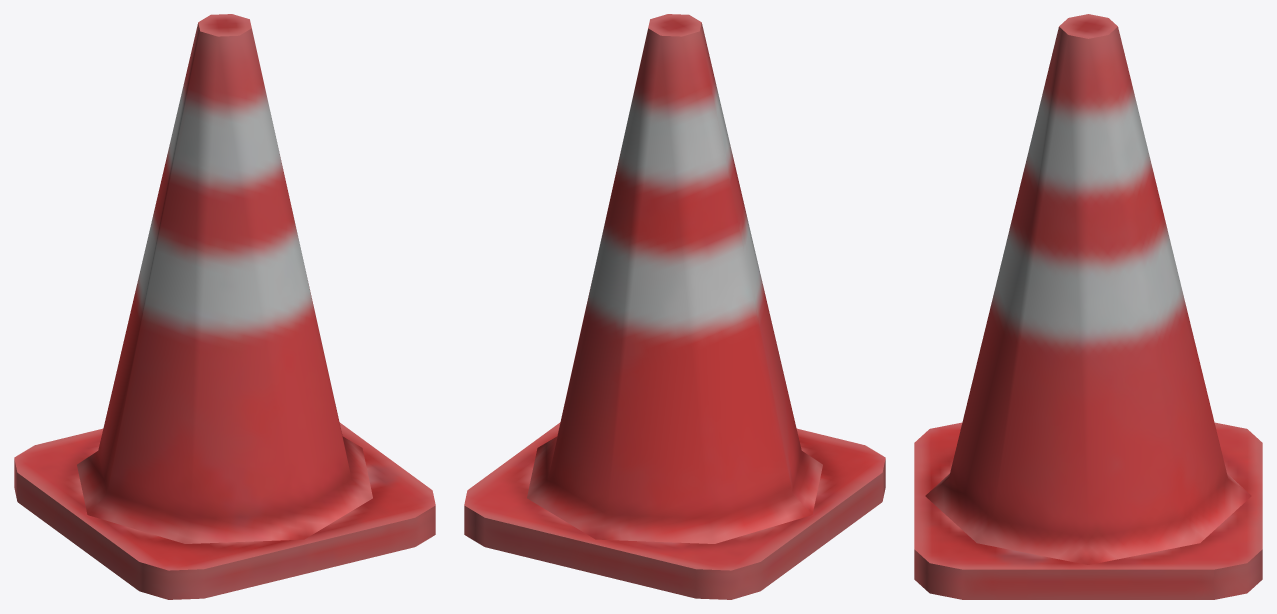
Rendered from Pfb_Roadblock__3.fbx.
3 renders of one model, left to right at view 1: azimuth 30°, elevation 25°; view 2: azimuth 150°, elevation 25°; view 3: azimuth 270°, elevation 25°, orthographic. The views are drawn at different scales.
Parts seen in each view (by area): view 1: Mat_Roadblocks01; view 2: Mat_Roadblocks01; view 3: Mat_Roadblocks01.
Boxes of the visible parts, left/top/right/bottom form: Mat_Roadblocks01: left=14, top=14, right=435, bottom=599; Mat_Roadblocks01: left=464, top=14, right=885, bottom=599; Mat_Roadblocks01: left=914, top=14, right=1262, bottom=599.
Size of the model in its own units: 0.5503 by 0.8706 by 0.5503.
1 material, 1 textured.
